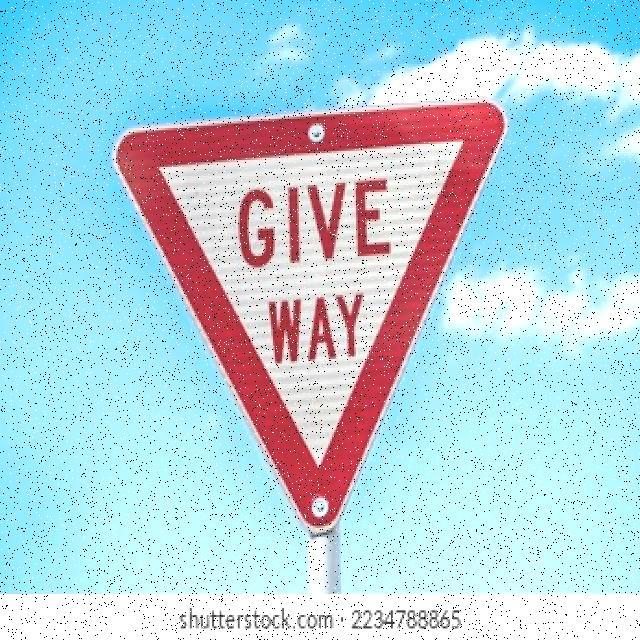Traffic sign: (114, 95, 512, 538)
